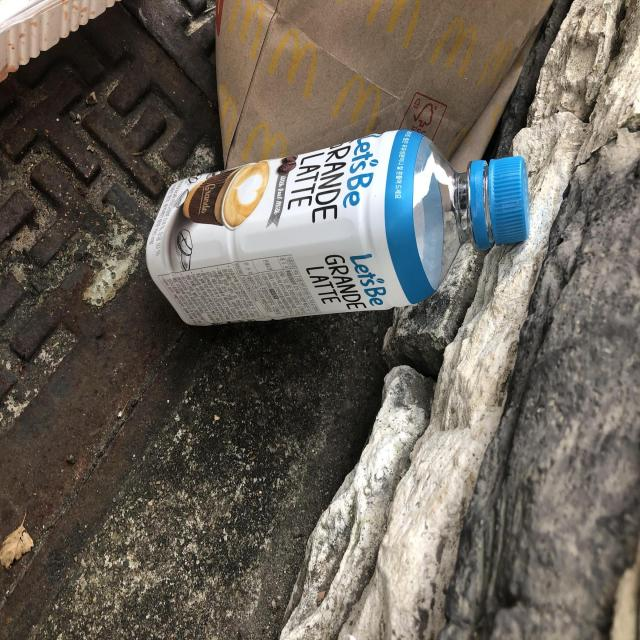plastic: (145, 129, 530, 325)
